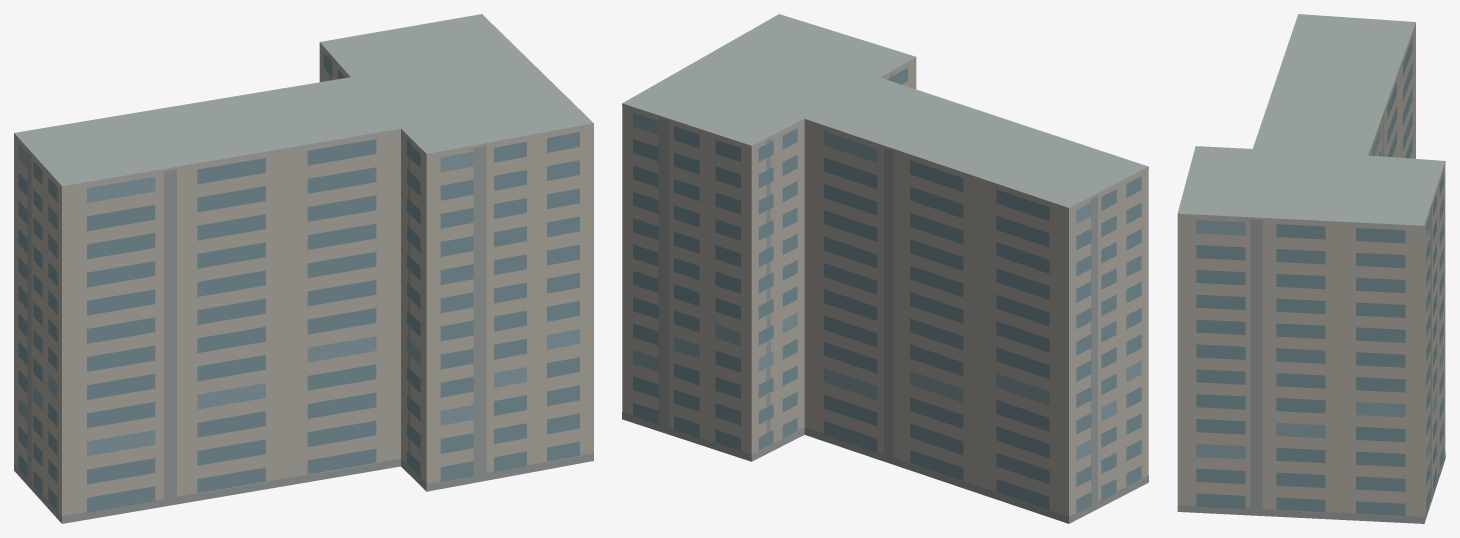
Rendered from residential-65cf647e-400c-40d8-80be-6aab59818ad6.glb.
3 renders of one model, left to right at view 1: azimuth 30°, elevation 25°; view 2: azimuth 150°, elevation 25°; view 3: azimuth 270°, elevation 25°, orthographic. The views are drawn at different scales.
Parts seen in each view (by area): view 1: residential-65cf647e-400c-40d8-80be-6aab59818ad6.tmp; view 2: residential-65cf647e-400c-40d8-80be-6aab59818ad6.tmp; view 3: residential-65cf647e-400c-40d8-80be-6aab59818ad6.tmp.
Boxes of the visible parts, left/top/right/bottom form: residential-65cf647e-400c-40d8-80be-6aab59818ad6.tmp: left=14, top=14, right=593, bottom=523; residential-65cf647e-400c-40d8-80be-6aab59818ad6.tmp: left=622, top=14, right=1148, bottom=523; residential-65cf647e-400c-40d8-80be-6aab59818ad6.tmp: left=1177, top=14, right=1445, bottom=523.
Size of the model in its own units: 48.74 by 32 by 26.07.
